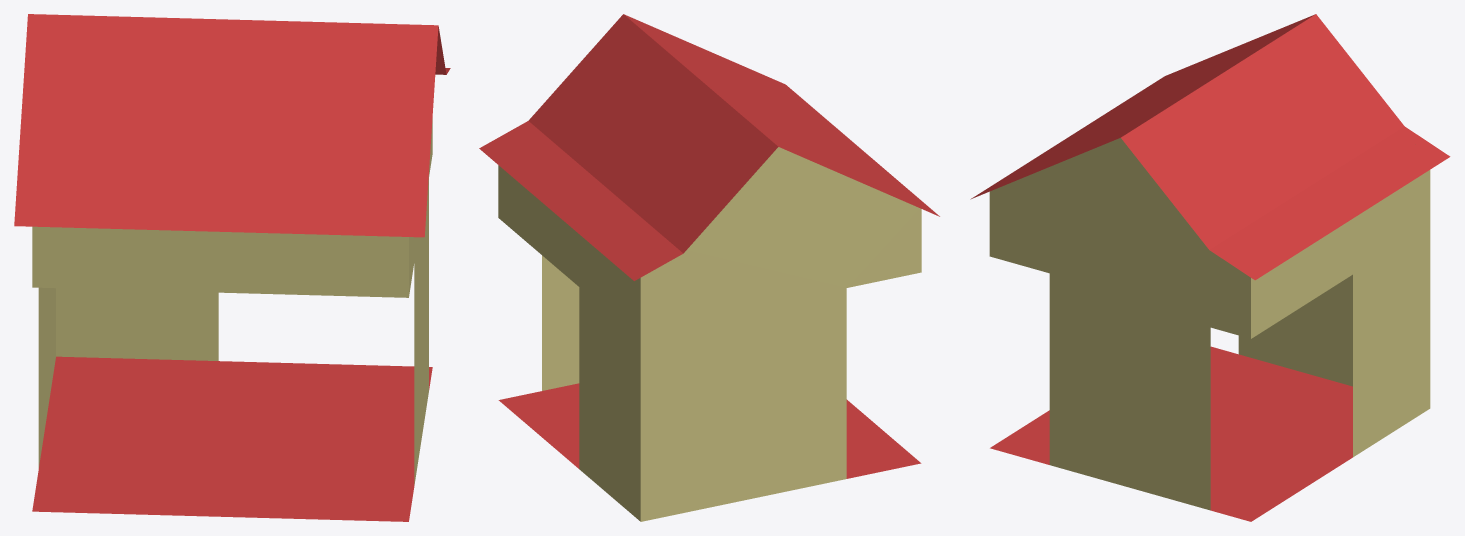
The picture shows the model from 3 angles, left to right: view 1: azimuth 30°, elevation 25°; view 2: azimuth 150°, elevation 25°; view 3: azimuth 270°, elevation 25°; orthographic projection. The views are drawn at different scales.
Size of the model in its own units: 16.64 by 16.56 by 13.48.
